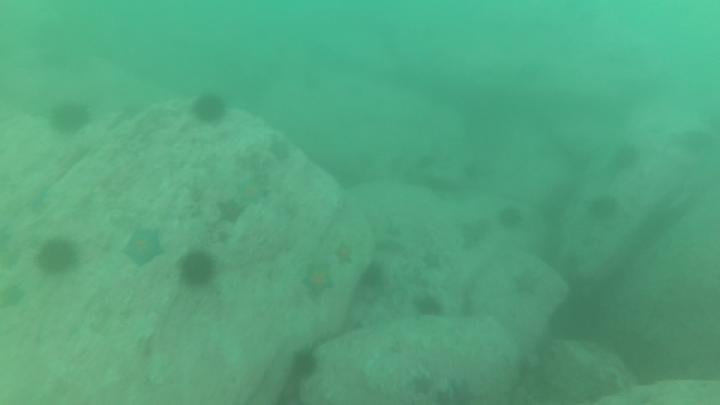echinus: (31, 236, 84, 281), (173, 250, 221, 290), (46, 97, 95, 136), (190, 91, 231, 128), (290, 346, 321, 384), (412, 293, 449, 321), (611, 141, 643, 172), (356, 262, 388, 291), (590, 193, 620, 222), (496, 203, 525, 233)
starfish: (120, 225, 166, 271), (300, 262, 339, 305), (512, 266, 543, 299), (216, 196, 249, 227), (1, 281, 27, 315), (266, 135, 294, 166), (447, 378, 478, 405), (411, 371, 440, 399), (333, 241, 358, 270), (419, 249, 447, 274), (433, 388, 457, 405)
